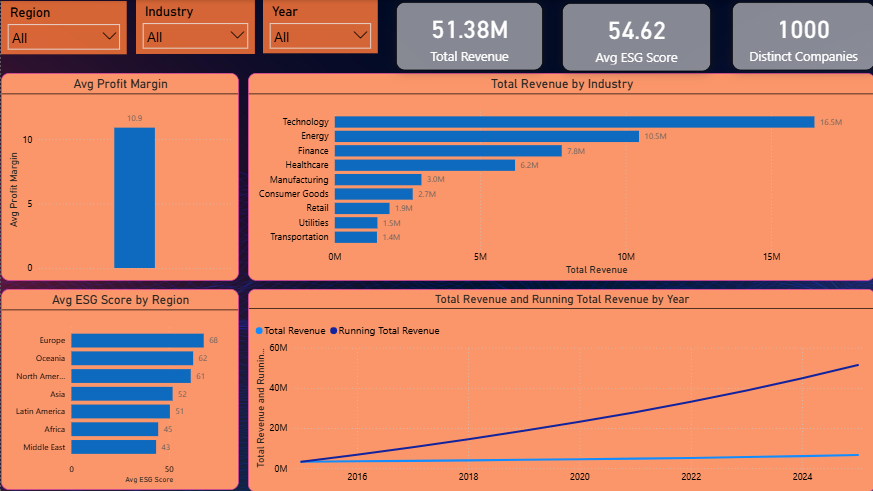

The dashboard page shown, as its layout file describes it:
{"tool":"powerbi","page":{"name":"Executive Summary","canvas":[1280,720],"ordinal":0},"visuals":[{"type":"clusteredColumnChart","fields":{"Y":["All measures.Avg Profit Margin"]},"box":[0,106.8,348.3,304.4],"z":0},{"type":"lineChart","fields":{"Category":["DimDate.Year"],"Y":["All measures.Total Revenue","All measures.Running Total Revenue"]},"box":[361.5,422.9,917.6,297.1],"z":1000},{"type":"clusteredBarChart","fields":{"Y":["All measures.Total Revenue"],"Category":["DimCompany.Industry"]},"box":[361.5,106.8,917.6,304.4],"z":2000},{"type":"clusteredBarChart","fields":{"Category":["DimCompany.Region"],"Y":["All measures.Avg ESG Score"]},"box":[0,422.9,348.3,294.1],"z":3000},{"type":"slicer","fields":{"Values":["DimCompany.Region"]},"box":[0,1.5,184.4,77.6],"z":4000},{"type":"slicer","fields":{"Values":["DimCompany.Industry"]},"box":[197.6,0,174.1,79],"z":5000},{"type":"slicer","fields":{"Values":["DimDate.Year"]},"box":[383.4,0,168.3,77.6],"z":6000},{"type":"card","fields":{"Values":["All measures.Total Revenue"]},"box":[578,2.9,215.1,99.5],"z":7000},{"type":"card","fields":{"Values":["All measures.Avg ESG Score"]},"box":[821,4.4,218,99.5],"z":9000},{"type":"card","fields":{"Values":["All measures.Distinct Companies"]},"box":[1069.8,2.9,209.3,99.5],"z":10000}]}

Visuals, with their boxes in screenshot pixels (x1, y1, x2, y2), scaled from the page's 1280x720 canvas onto the 873x491 screenshot:
clusteredColumnChart - All measures.Avg Profit Margin: (0, 73, 238, 280)
lineChart - DimDate.Year x All measures.Total Revenue: (247, 288, 872, 490)
clusteredBarChart - All measures.Total Revenue x DimCompany.Industry: (247, 73, 872, 280)
clusteredBarChart - DimCompany.Region x All measures.Avg ESG Score: (0, 288, 238, 489)
slicer - DimCompany.Region: (0, 1, 126, 54)
slicer - DimCompany.Industry: (135, 0, 254, 54)
slicer - DimDate.Year: (261, 0, 376, 53)
card - All measures.Total Revenue: (394, 2, 541, 70)
card - All measures.Avg ESG Score: (560, 3, 709, 71)
card - All measures.Distinct Companies: (730, 2, 872, 70)
